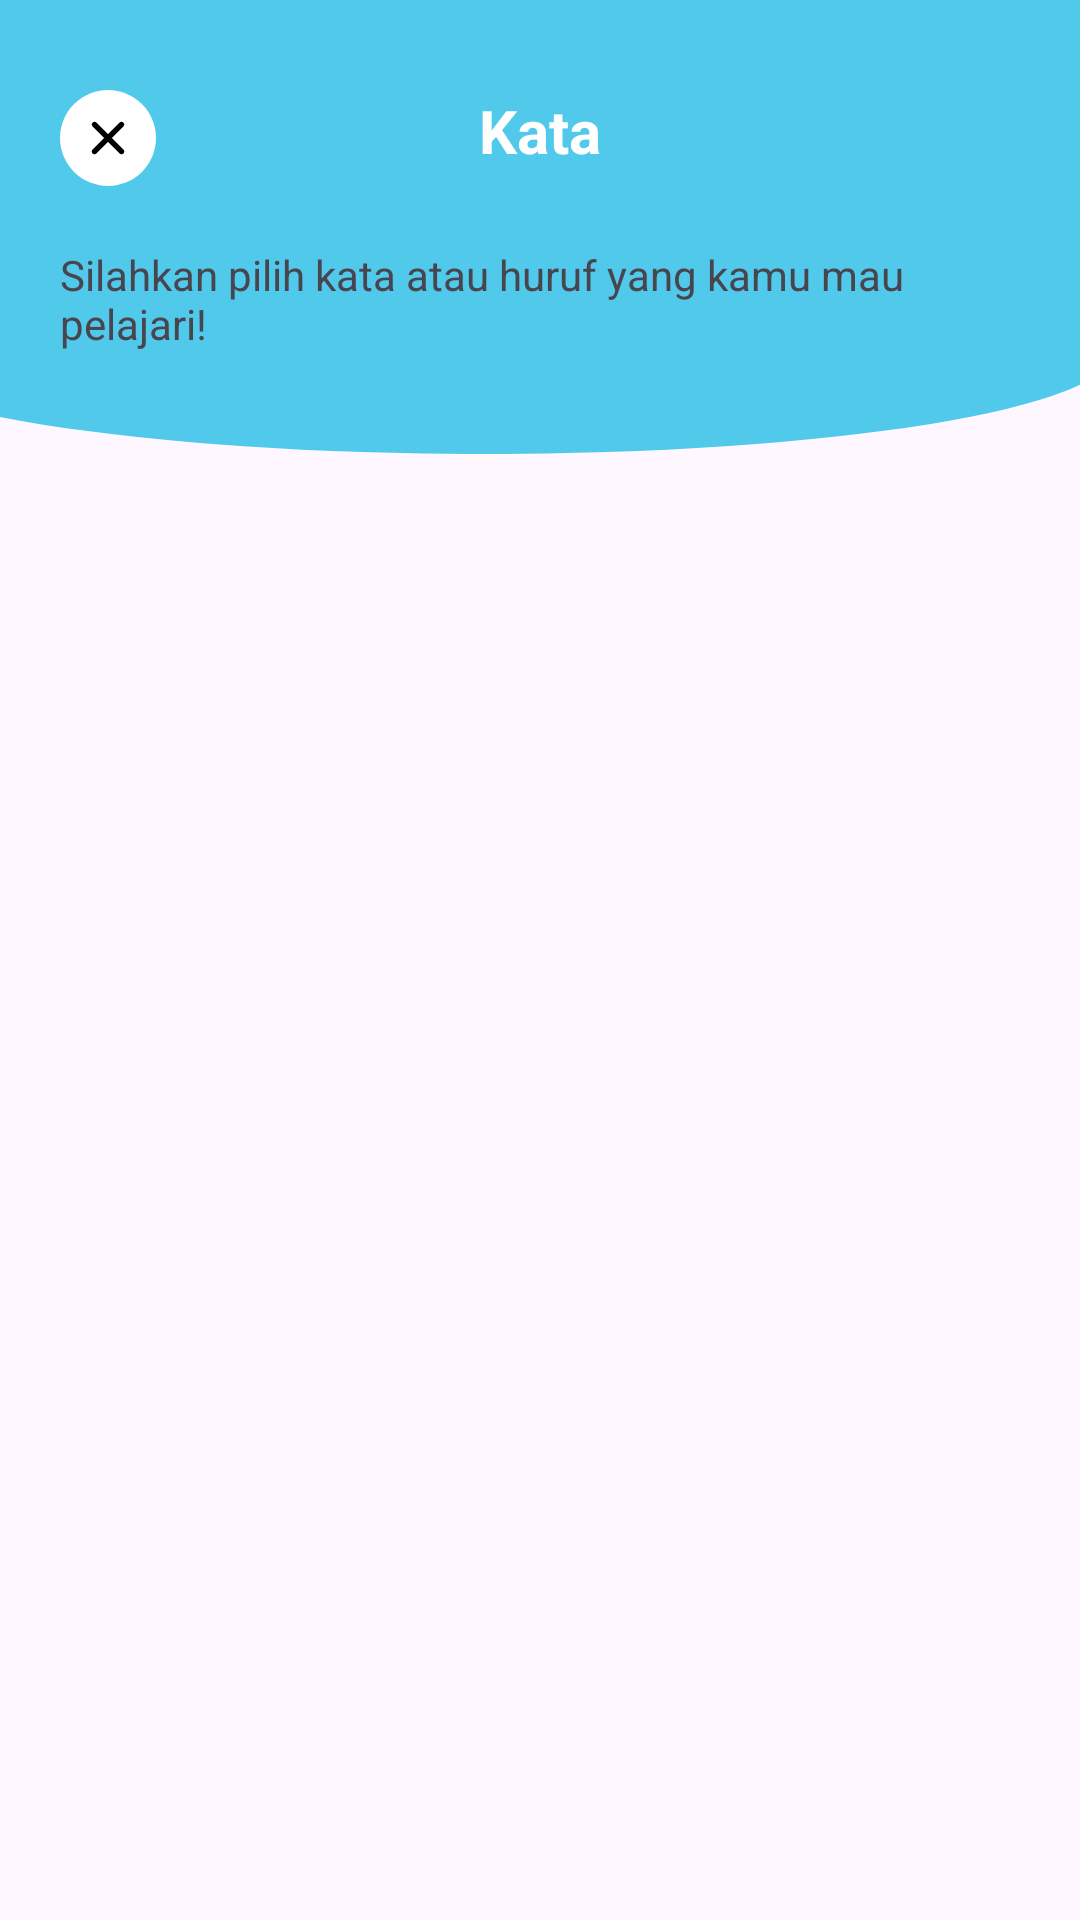

Where icons sit on this 1080×1920 app screen, as [x1, y1, x2, y2]:
close: [60, 90, 156, 186]
